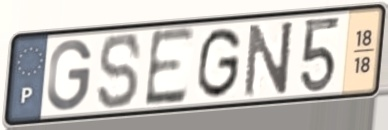5: (298, 16, 343, 95)
E: (142, 24, 198, 111)
G: (45, 37, 95, 114), (194, 25, 244, 102)
N: (241, 18, 296, 100)
S: (96, 31, 144, 112)
